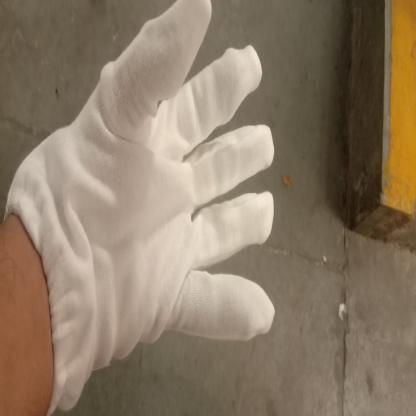gloved_hand: (2, 2, 276, 416)
